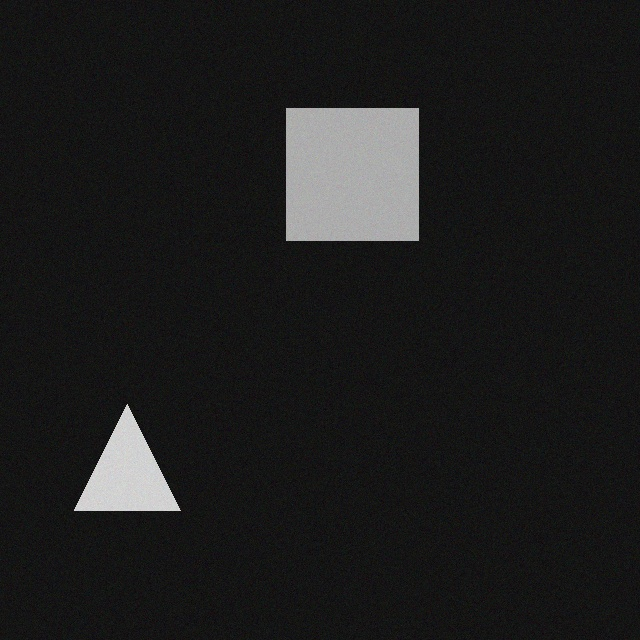square: (287, 99, 419, 231)
triangle: (75, 395, 181, 501)
